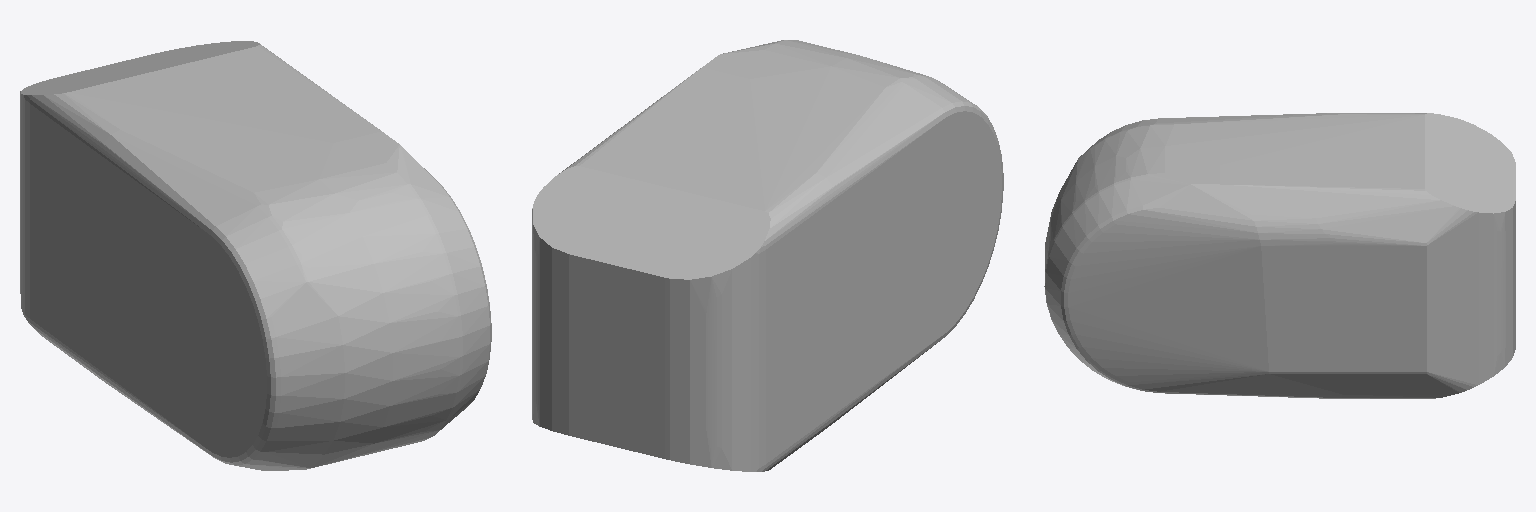
The robot description file, URDF, robot "root":
<?xml version='1.0' encoding='utf-8'?>
<robot name="root">
  <link name="link_001">
    <visual>
      <origin xyz="0 0 0" rpy="0 0 0" />
      <geometry>
        <mesh filename="da2f1d86dfd6cc608d9ac84934ef3c7f27e3fe169eb6ff7a9c2ded86ebc9ad02_scale_257.stl" scale="1.0000E+00 1.0000E+00 1.0000E+00" />
      </geometry>
      <material name="">
        <color rgba="7.50E-01 7.50E-01 7.50E-01 1" />
      </material>
    </visual>
    <collision>
      <origin xyz="0 0 0" rpy="0 0 0" />
      <geometry>
        <mesh filename="da2f1d86dfd6cc608d9ac84934ef3c7f27e3fe169eb6ff7a9c2ded86ebc9ad02_scale_257.stl" scale="1.0000E+00 1.0000E+00 1.0000E+00" />
      </geometry>
    </collision>
  </link>
</robot>

--- Facts derived from the render (not from the file) ---
The picture shows the robot from 3 angles, left to right: view 1: azimuth 30°, elevation 25°; view 2: azimuth 150°, elevation 25°; view 3: azimuth 270°, elevation 25°; orthographic projection.
Model root with 1 links and 0 joints (none), rooted at link_001, posed every joint at zero.
Visible links, largest first — view 1: link_001; view 2: link_001; view 3: link_001.
Link boxes in pixels (x1,y1,x2,y2): link_001: [20, 41, 491, 470]; link_001: [532, 40, 1003, 471]; link_001: [1044, 113, 1515, 398].
Size in the robot's own frame: 0.049 by 0.1 by 0.0514 metres.
Meshes: 1 distinct files referenced, 1 mesh visuals loaded (1 binary STL).
